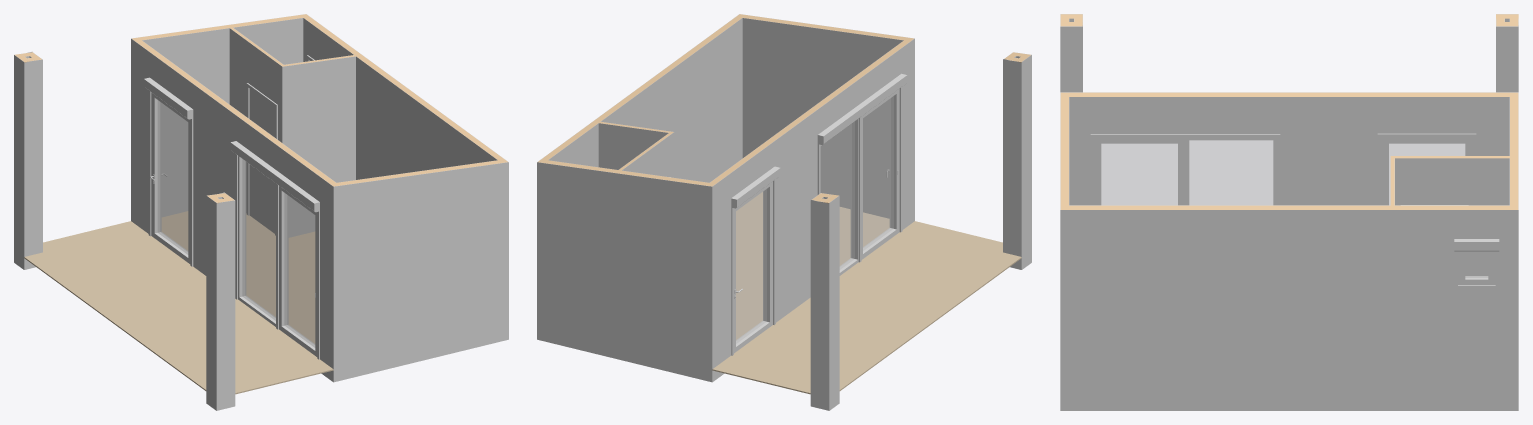
File: lg.blansa@gmail.fbx
3 renders of one model, left to right at view 1: azimuth 30°, elevation 25°; view 2: azimuth 150°, elevation 25°; view 3: azimuth 270°, elevation 25°, orthographic. The views are drawn at different scales.
Visible parts, largest first — view 1: IfcWall/Part:2319977, IfcSlab/Part:2567786, IfcWall/Part:2368366, IfcWall/Part:2397151, IfcWall/Part:2566166, IfcWall/Part:2397154, IfcDoor/Durys išorinės:1200x2400x120 (dešininės):2567879, IfcSlab/Part:2319985, IfcWindow/Langai (Akrusta):1200x2400x120 (dešininis su uzdar, IfcWindow/Langai (Akrusta):1200x2400x120:2590263, IfcWall/Part:2572425, IfcWall/Part:2572084 (+9 smaller); view 2: IfcWall/Part:2397155, IfcSlab/Part:2567786, IfcWall/Part:2319976, IfcWall/Part:2368366, IfcWall/Part:2397151, IfcDoor/Durys išorinės:1200x2400x120 (dešininės):2567879, IfcWindow/Langai (Akrusta):1200x2400x120 (dešininis su uzdar, IfcSlab/Part:2319985, IfcWindow/Langai (Akrusta):1200x2400x120:2590263, IfcWall/Part:2572435, IfcWall/Part:2572369, IfcWall/Part:2571942 (+10 smaller); view 3: IfcWall/Part:2397152, IfcWall/Part:2368365, IfcWindow/Langai (Akrusta):1200x2400x120 (dešininis su uzdar, IfcWindow/Langai (Akrusta):1200x2400x120:2590263, IfcWall/Part:2566162, IfcDoor/Durys išorinės:1200x2400x120 (dešininės):2567879, IfcWall/Part:2397153, IfcWall/Part:2368367, IfcWindow/Langai (Akrusta):500 x 500 x 120:2522947, IfcWall/Part:2572283, IfcWall/Part:2572430, IfcWall/Part:2397156 (+5 smaller).
Part boxes in pixels (bbox=[...]): IfcWall/Part:2319977: bbox=[333, 162, 508, 382]; IfcSlab/Part:2567786: bbox=[24, 221, 333, 394]; IfcWall/Part:2368366: bbox=[131, 38, 333, 381]; IfcWall/Part:2397151: bbox=[303, 18, 497, 179]; IfcWall/Part:2566166: bbox=[282, 56, 355, 237]; IfcWall/Part:2397154: bbox=[142, 18, 303, 217]; IfcDoor/Durys išorinės:1200x2400x120 (dešininės):2567879: bbox=[148, 90, 193, 266]; IfcSlab/Part:2319985: bbox=[161, 211, 315, 343]; IfcWindow/Langai (Akrusta):1200x2400x120 (dešininis su uzdar: bbox=[279, 186, 317, 356]; IfcWindow/Langai (Akrusta):1200x2400x120:2590263: bbox=[238, 156, 275, 326]; IfcWall/Part:2572425: bbox=[217, 200, 235, 410]; IfcWall/Part:2572084: bbox=[24, 59, 42, 269]; IfcWall/Part:2397155: bbox=[537, 162, 712, 382]; IfcSlab/Part:2567786: bbox=[712, 221, 1021, 394]; IfcWall/Part:2319976: bbox=[742, 18, 903, 218]; IfcWall/Part:2368366: bbox=[712, 38, 914, 381]; IfcWall/Part:2397151: bbox=[548, 18, 742, 182]; IfcDoor/Durys išorinės:1200x2400x120 (dešininės):2567879: bbox=[731, 179, 775, 355]; IfcWindow/Langai (Akrusta):1200x2400x120 (dešininis su uzdar: bbox=[861, 89, 899, 259]; IfcSlab/Part:2319985: bbox=[736, 192, 889, 339]; IfcWindow/Langai (Akrusta):1200x2400x120:2590263: bbox=[820, 119, 858, 275]; IfcWall/Part:2572435: bbox=[1003, 59, 1021, 269]; IfcWall/Part:2572369: bbox=[811, 199, 828, 410]; IfcWall/Part:2571942: bbox=[829, 195, 839, 410]; IfcWall/Part:2397152: bbox=[1060, 210, 1518, 410]; IfcWall/Part:2368365: bbox=[1069, 97, 1509, 205]; IfcWindow/Langai (Akrusta):1200x2400x120 (dešininis su uzdar: bbox=[1094, 138, 1183, 205]; IfcWindow/Langai (Akrusta):1200x2400x120:2590263: bbox=[1187, 138, 1276, 205]; IfcWall/Part:2566162: bbox=[1395, 158, 1509, 275]; IfcDoor/Durys išorinės:1200x2400x120 (dešininės):2567879: bbox=[1377, 133, 1476, 205]; IfcWall/Part:2397153: bbox=[1060, 205, 1509, 209]; IfcWall/Part:2368367: bbox=[1069, 92, 1509, 96]; IfcWindow/Langai (Akrusta):500 x 500 x 120:2522947: bbox=[1454, 251, 1499, 288]; IfcWall/Part:2572283: bbox=[1496, 26, 1518, 92]; IfcWall/Part:2572430: bbox=[1060, 26, 1082, 92]; IfcWall/Part:2397156: bbox=[1510, 92, 1518, 209].
Size of the model in its own units: 510 by 340 by 600.
